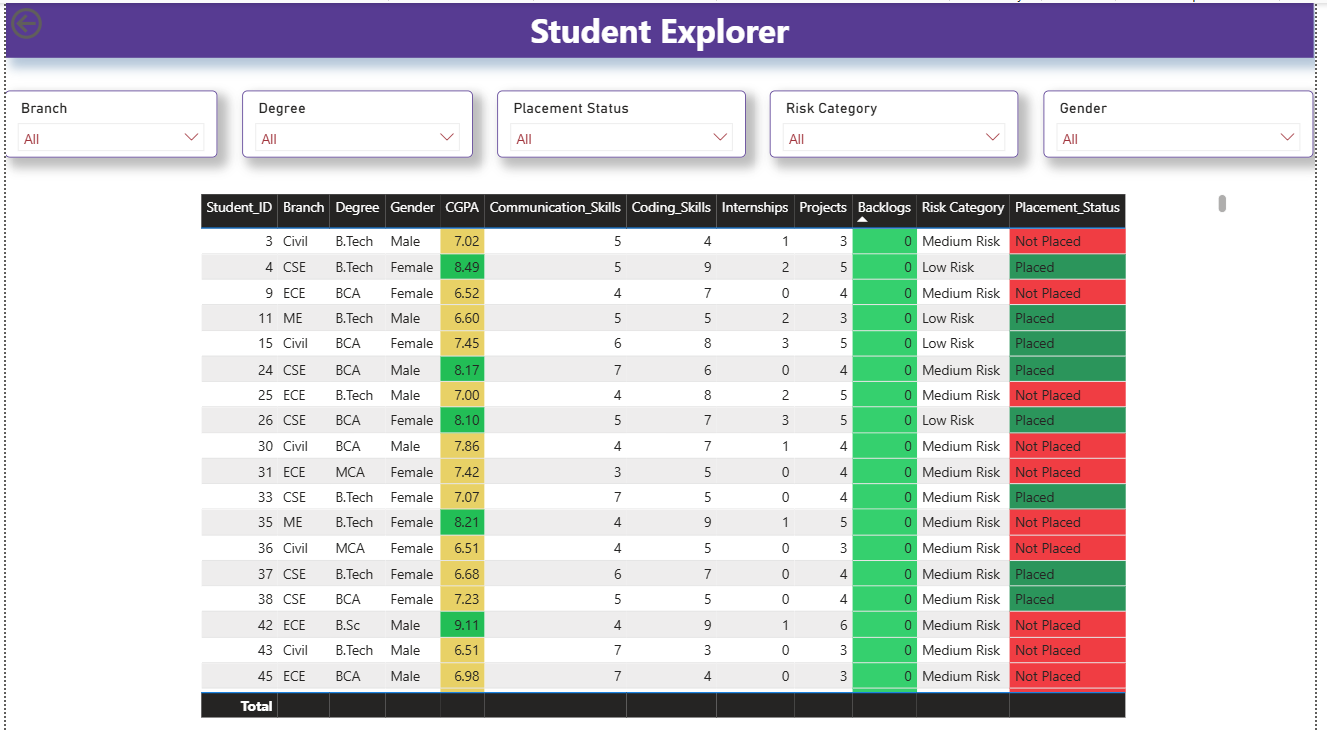

The dashboard page shown, as its layout file describes it:
{"tool":"powerbi","page":{"name":"Page 3","canvas":[1280,720],"ordinal":2},"visuals":[{"type":"slicer","fields":{"Values":["student_data.Branch"]},"box":[-0.7,85.3,207.7,65.6],"z":0},{"type":"slicer","fields":{"Values":["student_data.Degree"]},"box":[230.9,85.3,225.4,65.6],"z":1000},{"type":"slicer","fields":{"Values":["student_data.Gender"]},"box":[1014.5,85.3,263.7,65.6],"z":2000},{"type":"textbox","box":[0,0,1278.9,53.3],"z":3000},{"type":"actionButton","box":[0,0,100,40],"z":4000},{"type":"slicer","fields":{"Values":["student_data.Placement_Status"]},"box":[480.3,85.3,243.2,65.6],"z":5000},{"type":"slicer","fields":{"Values":["student_data.Risk Category"]},"box":[747.4,85.3,243.2,65.6],"z":6000},{"type":"tableEx","fields":{"Values":["student_data.Student_ID","student_data.Branch","student_data.Degree","student_data.Gender","student_data.CGPA","student_data.Communication_Skills","student_data.Coding_Skills","student_data.Internships","student_data.Projects","student_data.Backlogs","student_data.Risk Category","student_data.Placement_Status"]},"box":[184.6,182.2,1015,522.1],"z":7000}]}

Visuals, with their boxes in screenshot pixels (x1, y1, x2, y2), scaled from the page's 1280x720 canvas onto the 1327x730 screenshot:
slicer - student_data.Branch: 0:86:215:153
slicer - student_data.Degree: 239:86:473:153
slicer - student_data.Gender: 1052:86:1325:153
textbox: 0:0:1326:54
actionButton: 0:0:104:41
slicer - student_data.Placement_Status: 498:86:750:153
slicer - student_data.Risk Category: 775:86:1027:153
tableEx - student_data.Student_ID x student_data.Branch: 191:185:1244:714
